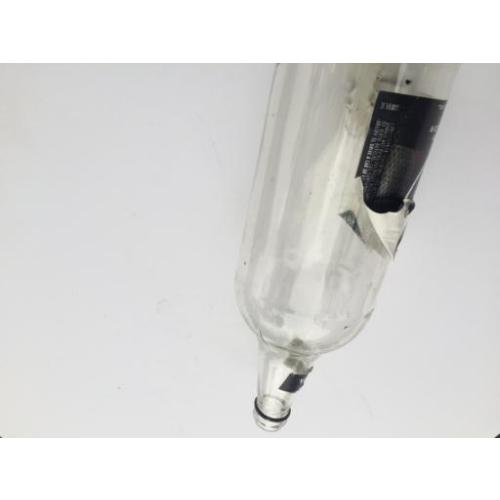glass: (238, 64, 447, 433)
